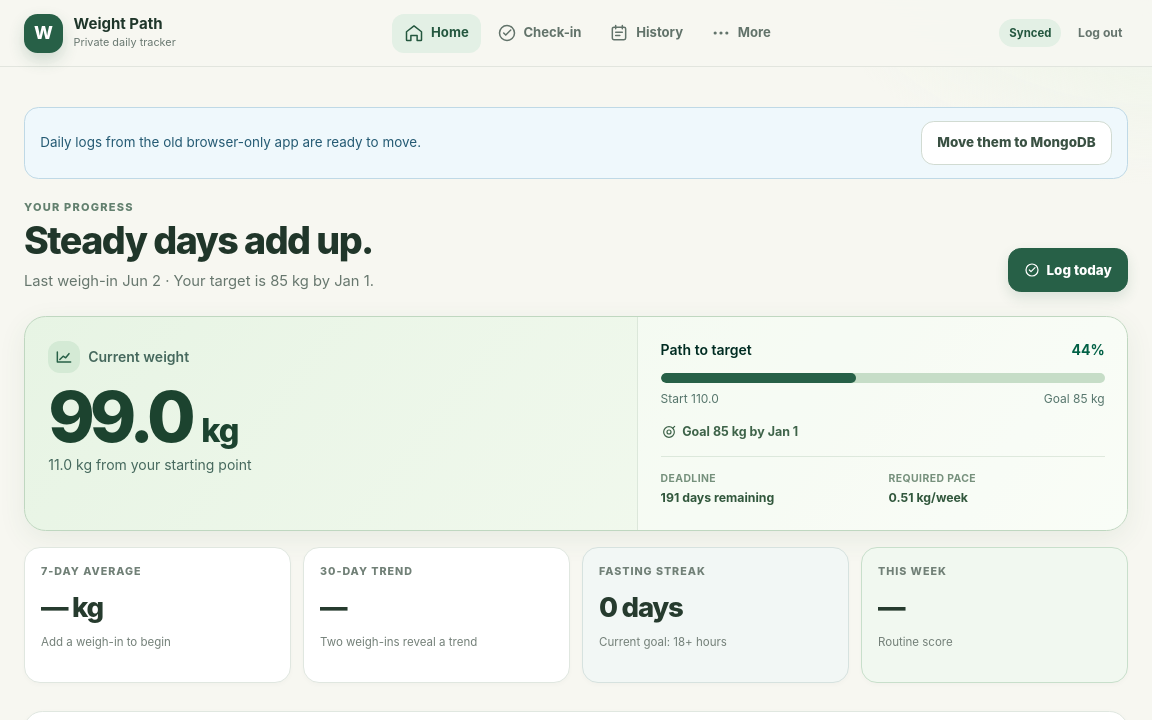
Test: App startup and legacy migration › offers a merge migration even when MongoDB already has records, then clears local data after success
Click the button "Move them to MongoDB" at (1016, 143), box [921,121,1112,165]
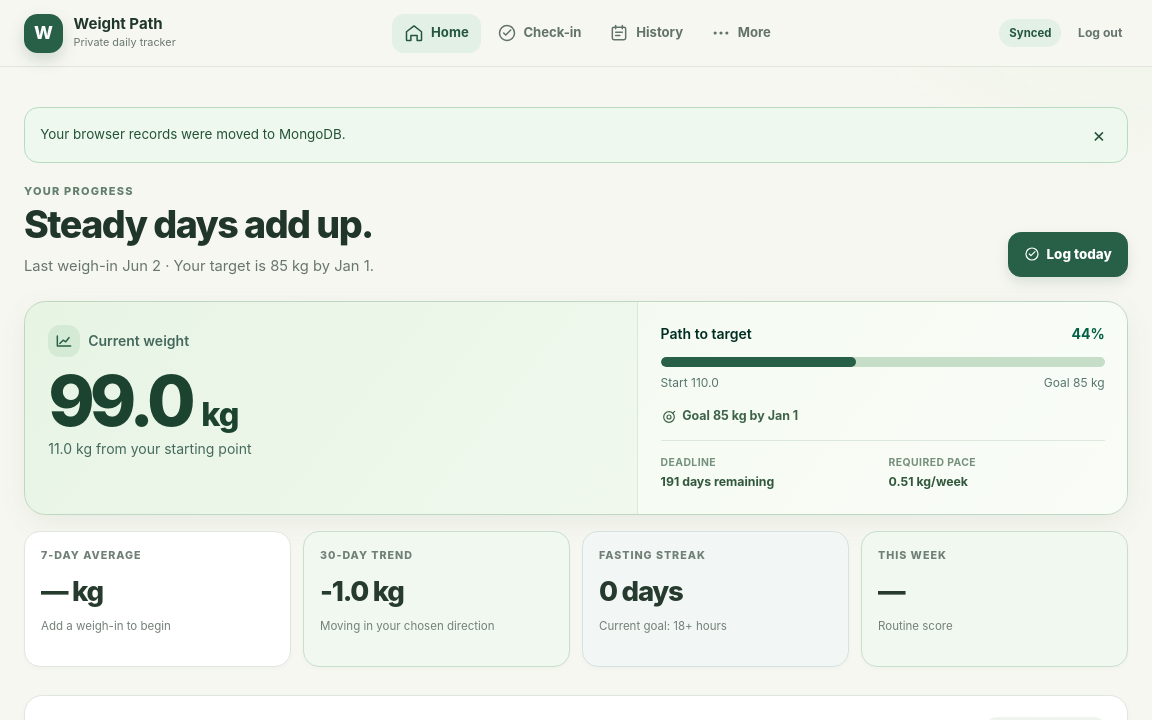
Expected: the text "Your browser records were moved to MongoDB." is shown, [40,125,346,145]
